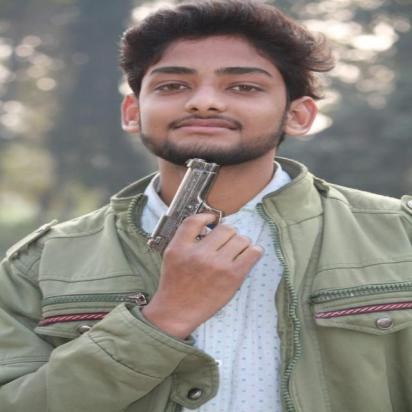Gun: (144, 157, 262, 271)
